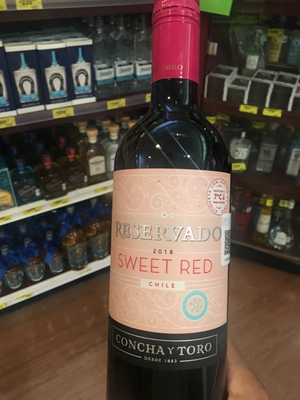reservado sweet red: (101, 15, 245, 400)
